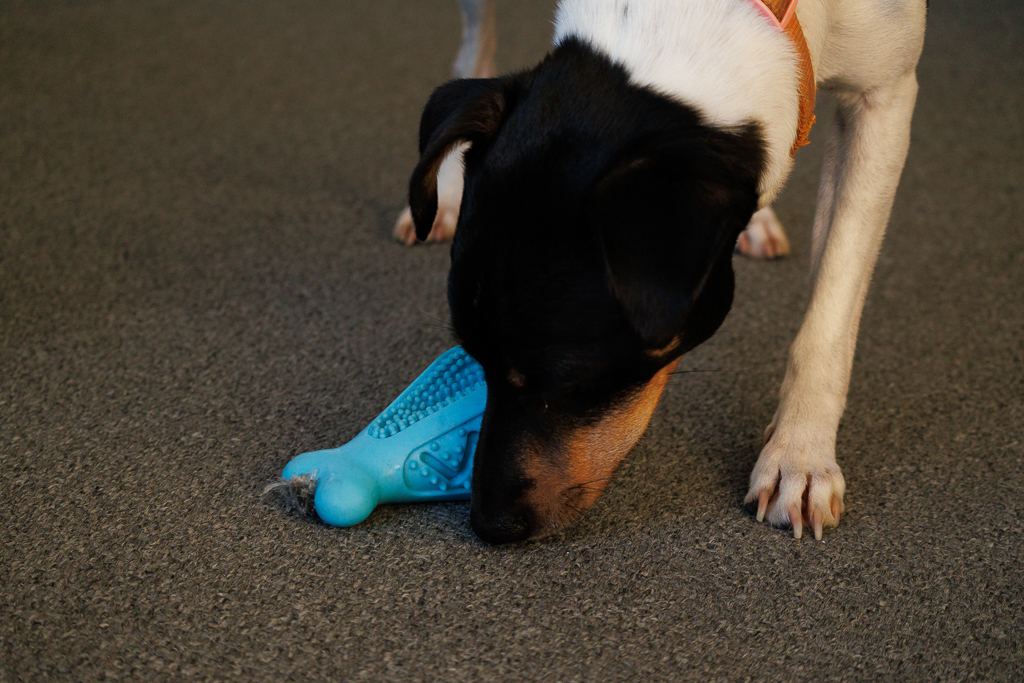Dog: (380, 0, 939, 560)
